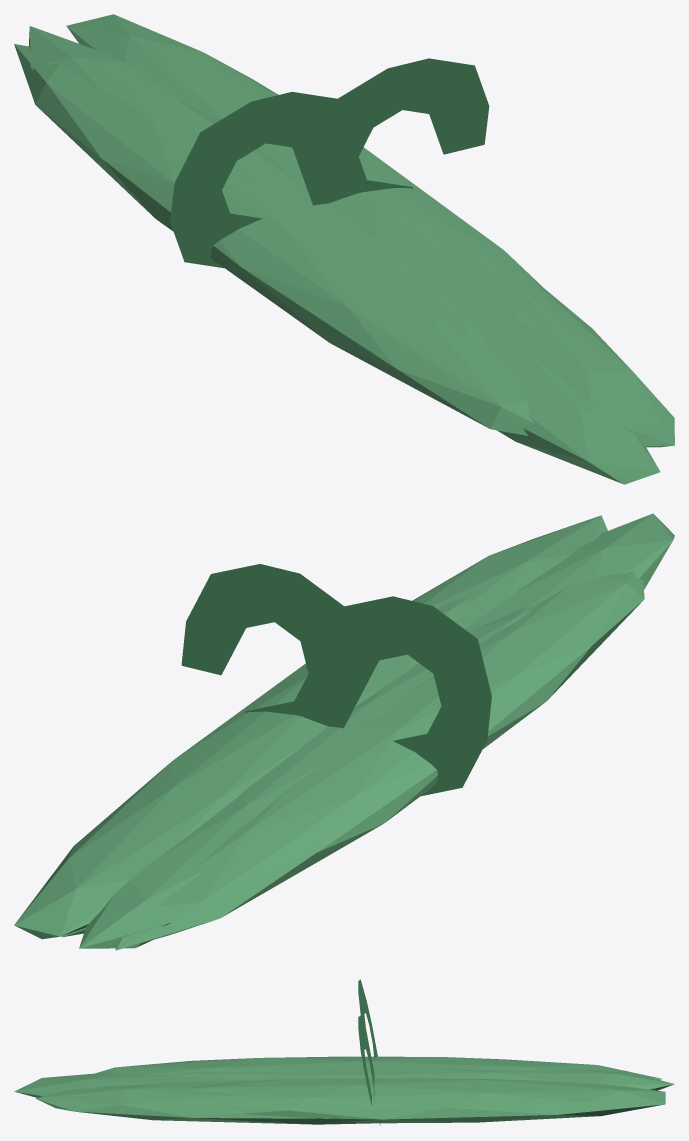
File: pteris-biaurita.glb
3 views of the same model, one above another, from view 1: azimuth 30°, elevation 25°; view 2: azimuth 150°, elevation 25°; view 3: azimuth 270°, elevation 25° (orthographic). The views are drawn at different scales.
Parts seen in each view (by area): view 1: frond3, frond0, fiddle-1, frond4, fiddle1, frond1, frond2; view 2: frond3, frond0, fiddle-1, fiddle1, frond4, frond1, frond2; view 3: frond0, frond1, frond3, frond4, frond2, fiddle1, fiddle-1.
Boxes of the visible parts, box(x1,y1,x2,y2) form: frond3: box(14, 44, 534, 435); frond0: box(66, 14, 586, 334); fiddle-1: box(170, 92, 351, 268); frond4: box(28, 26, 489, 351); fiddle1: box(307, 58, 489, 205); frond1: box(446, 274, 674, 447); frond2: box(457, 303, 660, 484); frond3: box(115, 571, 644, 950); frond0: box(14, 586, 470, 939); fiddle-1: box(318, 596, 491, 796); fiddle1: box(181, 564, 358, 728); frond4: box(79, 606, 534, 948); frond1: box(412, 515, 607, 628); frond2: box(464, 513, 674, 632); frond0: box(171, 1078, 665, 1123); frond1: box(35, 1081, 370, 1124); frond3: box(95, 1056, 662, 1079); frond4: box(174, 1068, 674, 1090); frond2: box(14, 1073, 233, 1097); fiddle1: box(358, 1015, 380, 1125); fiddle-1: box(358, 979, 377, 1060).
Size of the model in its own units: 0.184 by 0.1059 by 0.6187.
